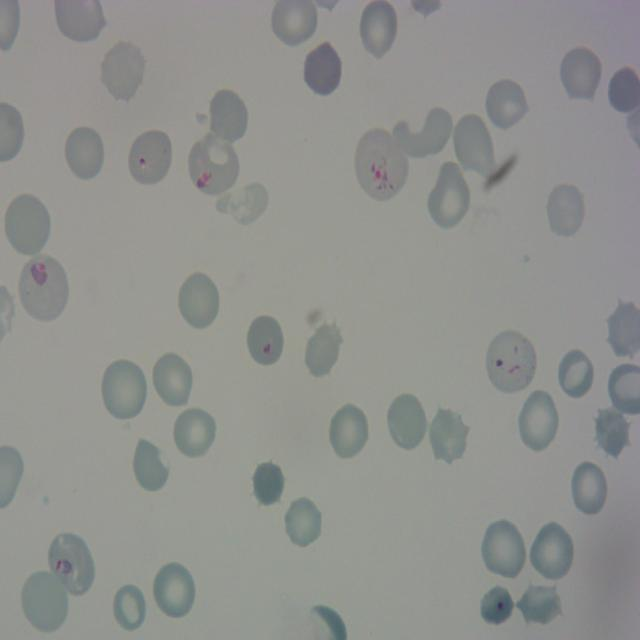leukocyte: (99, 356, 149, 422), (2, 192, 52, 258), (21, 568, 71, 634), (426, 161, 472, 231), (479, 518, 528, 582), (98, 40, 147, 104), (528, 520, 576, 583), (516, 388, 560, 455), (176, 269, 222, 332), (151, 560, 197, 621), (397, 107, 451, 158), (557, 45, 603, 104), (385, 391, 429, 452), (326, 402, 371, 461), (171, 405, 218, 461), (358, 0, 398, 64), (301, 40, 344, 99), (207, 87, 250, 146), (568, 458, 610, 518), (427, 406, 469, 466), (213, 182, 270, 226), (482, 80, 528, 134), (452, 113, 493, 172), (544, 183, 587, 238), (130, 435, 170, 494), (303, 320, 343, 379), (282, 495, 324, 550), (516, 577, 562, 627), (150, 353, 193, 406), (65, 125, 105, 180), (592, 403, 630, 458), (250, 458, 286, 508), (558, 349, 595, 397), (112, 583, 146, 632)
red blood cell: (354, 130, 409, 203), (16, 250, 70, 322), (188, 130, 237, 192), (49, 534, 94, 594)
